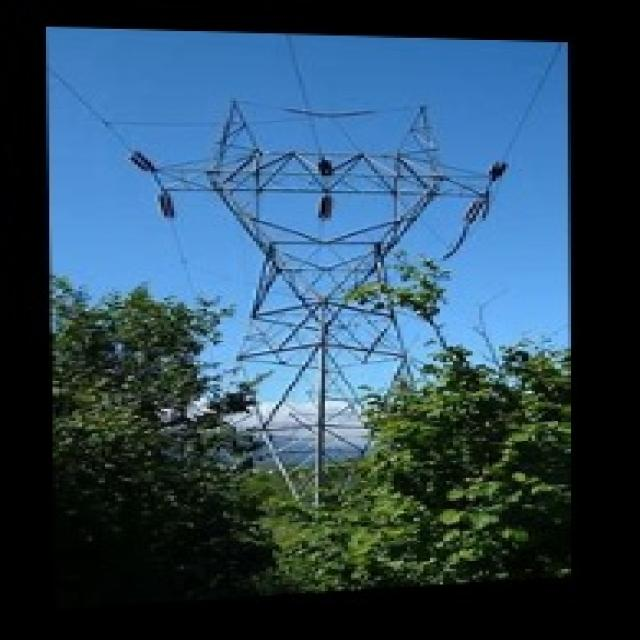utility poles: (338, 270, 532, 448), (153, 284, 289, 449)
